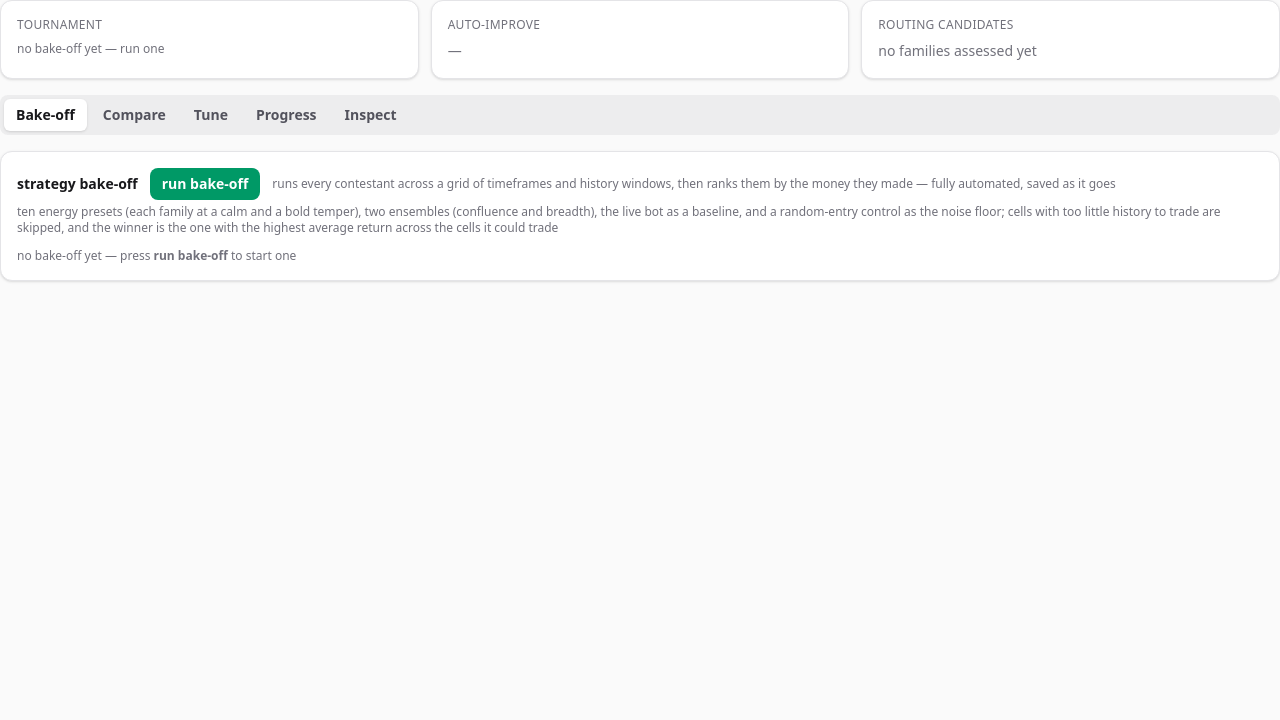
Test: ResearchScreen › shows a not-in-list notice instead of silently swapping in another run
This screenshot has width=1280, height=720.
Click the button "Compare": (134, 115) [91,99,178,131]
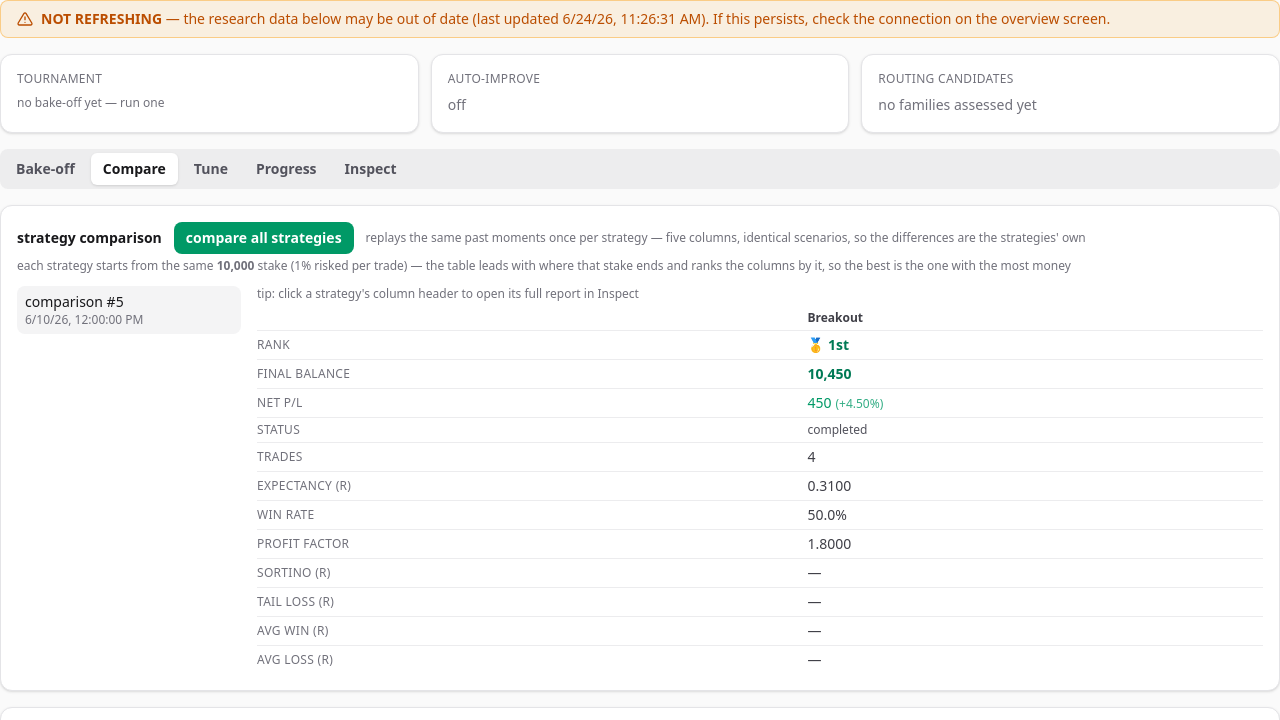
Expected: the button "Breakout" is shown
Click the button "Breakout": (835, 318) [807,310,863,326]
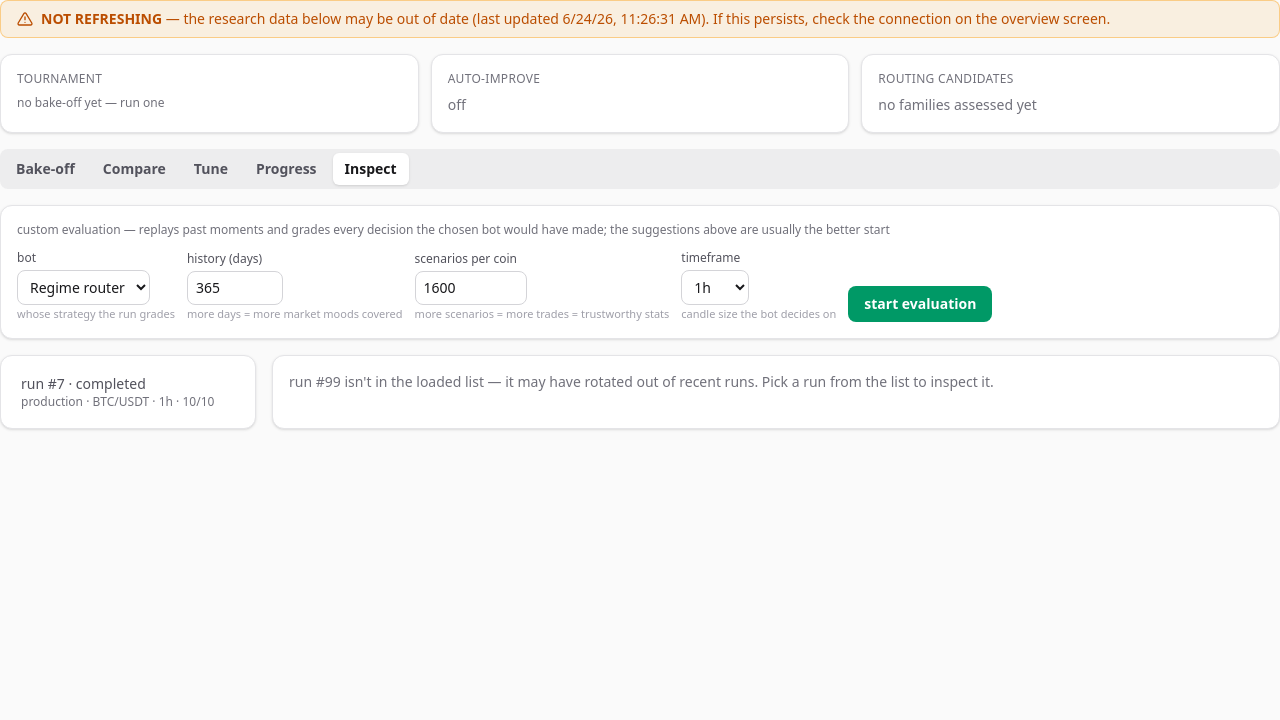
Expected: the text "run #99 isn't in the loaded list" is shown, [289,372,994,391]
